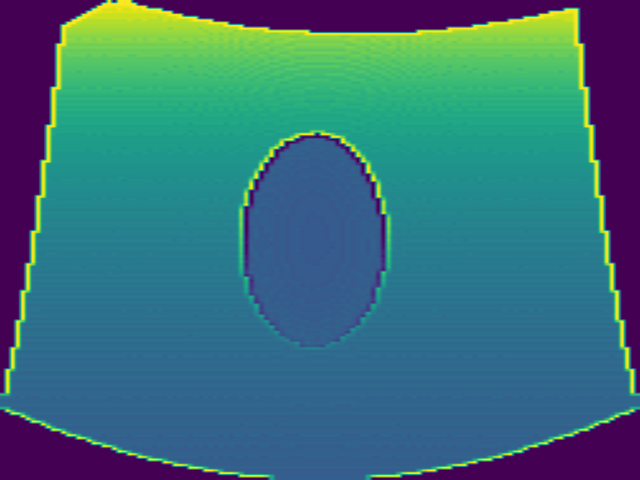sphere: (237, 128, 388, 351)
